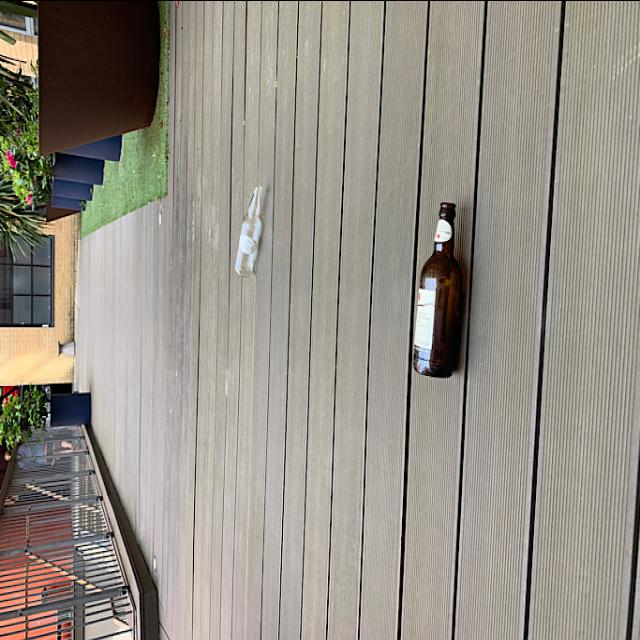litter: (413, 198, 465, 384), (230, 182, 272, 278)
